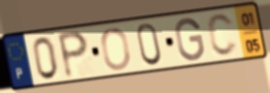0: (30, 34, 61, 82), (136, 22, 164, 68)
C: (205, 11, 240, 58)
G: (174, 17, 207, 63)
O: (99, 27, 133, 72)
P: (55, 29, 91, 81)
